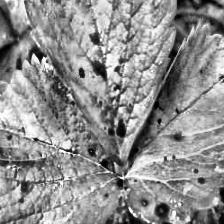Leaf Spot: (23, 0, 177, 168), (122, 19, 224, 224), (0, 52, 122, 223), (0, 27, 45, 94)
